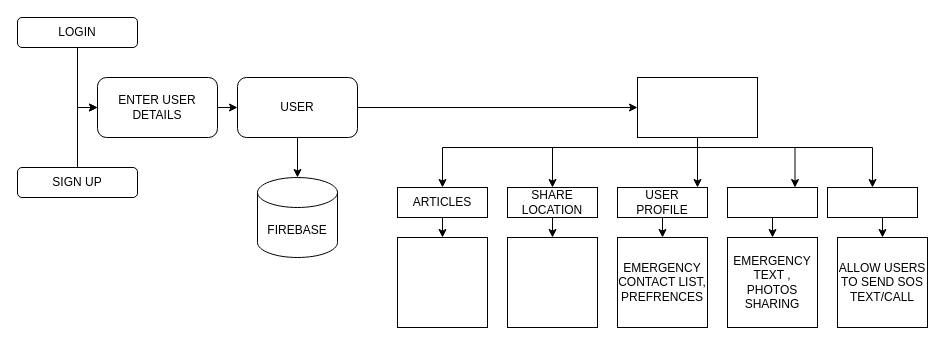
This 945x345 diagram has some shape labels left out. Here are the shapes that lost their labels. From the top down, the centre of each, then its label:
the point at 697,107: HOMEPAGE
the point at 772,202: CHAT
the point at 872,202: SOS CALLS/TEXT
the point at 442,282: ACCESS SAFETY TIPS & ARTICLES
the point at 552,282: IT WILL ALLOW USERS TO SHARE THEIR LOCATION
